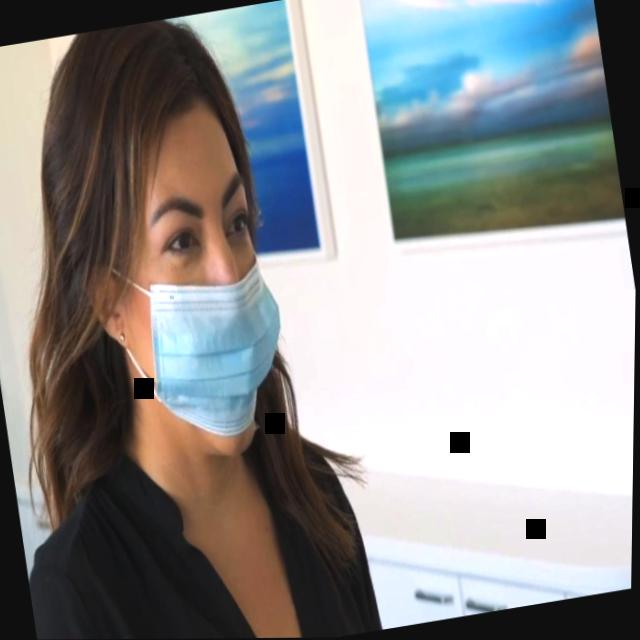Mask: (85, 89, 306, 471)
